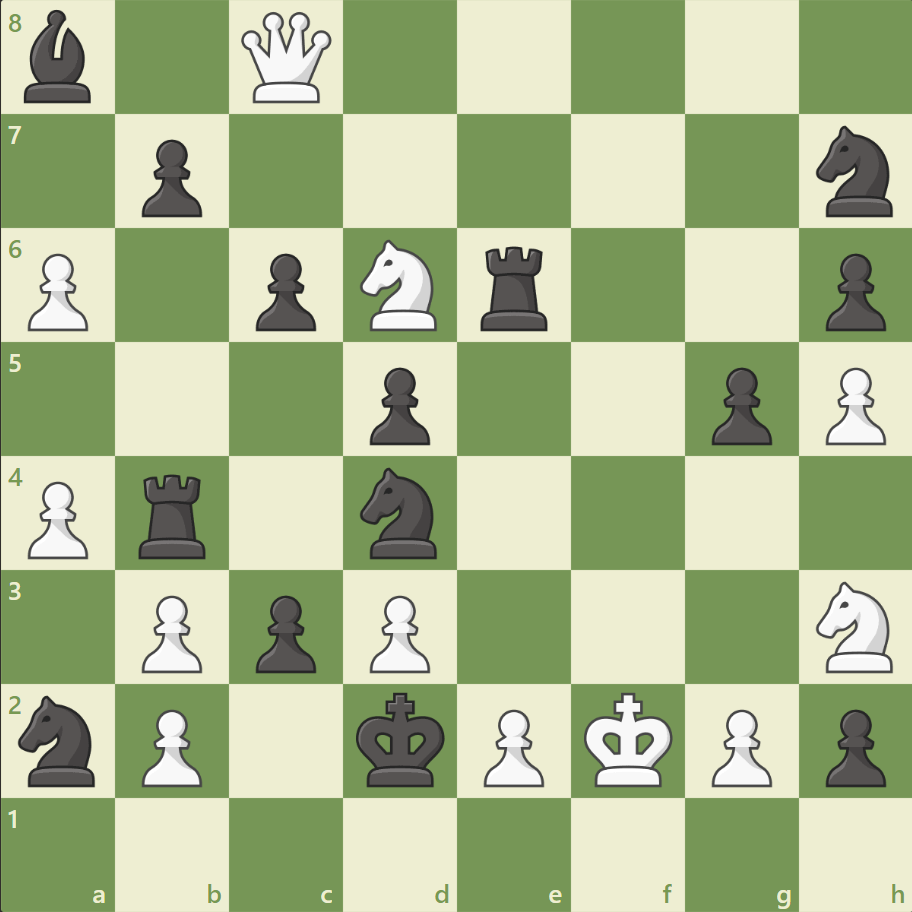K: (579, 685, 679, 793)
N: (351, 234, 449, 337), (806, 575, 903, 677)
P: (20, 246, 95, 337), (20, 473, 95, 564), (133, 586, 208, 677), (133, 700, 208, 791), (474, 700, 549, 791), (701, 700, 776, 791), (815, 359, 889, 450), (361, 586, 435, 677)
Q: (237, 9, 336, 108)
b: (17, 6, 101, 109)
k: (351, 685, 451, 793)
n: (351, 461, 449, 564), (11, 688, 108, 791), (806, 121, 903, 223)
p: (133, 132, 208, 223), (247, 246, 322, 337), (701, 359, 776, 450), (247, 586, 322, 677), (815, 246, 889, 337), (361, 359, 435, 450), (815, 700, 889, 791)
r: (473, 239, 556, 336), (133, 466, 215, 563)
